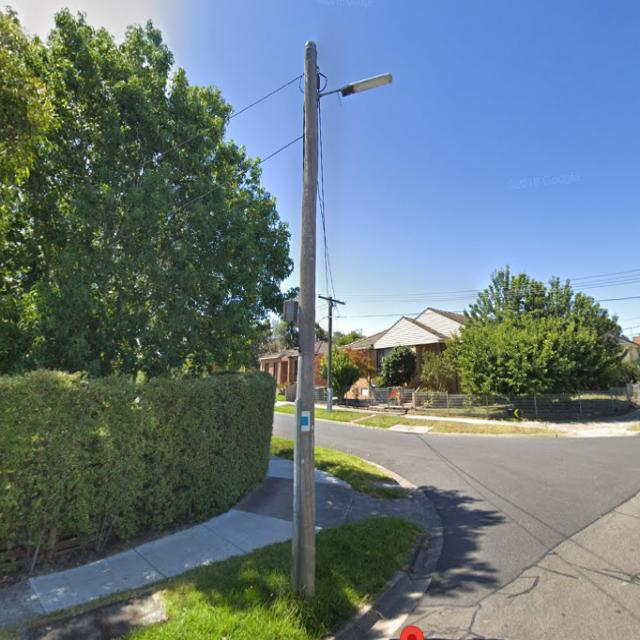crossarm: (317, 294, 347, 307)
streetlight: (318, 72, 395, 99)
timber-pole: (290, 40, 320, 601), (326, 296, 334, 413)
